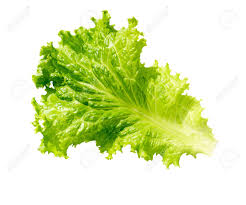Lettuce: (30, 13, 217, 158)
